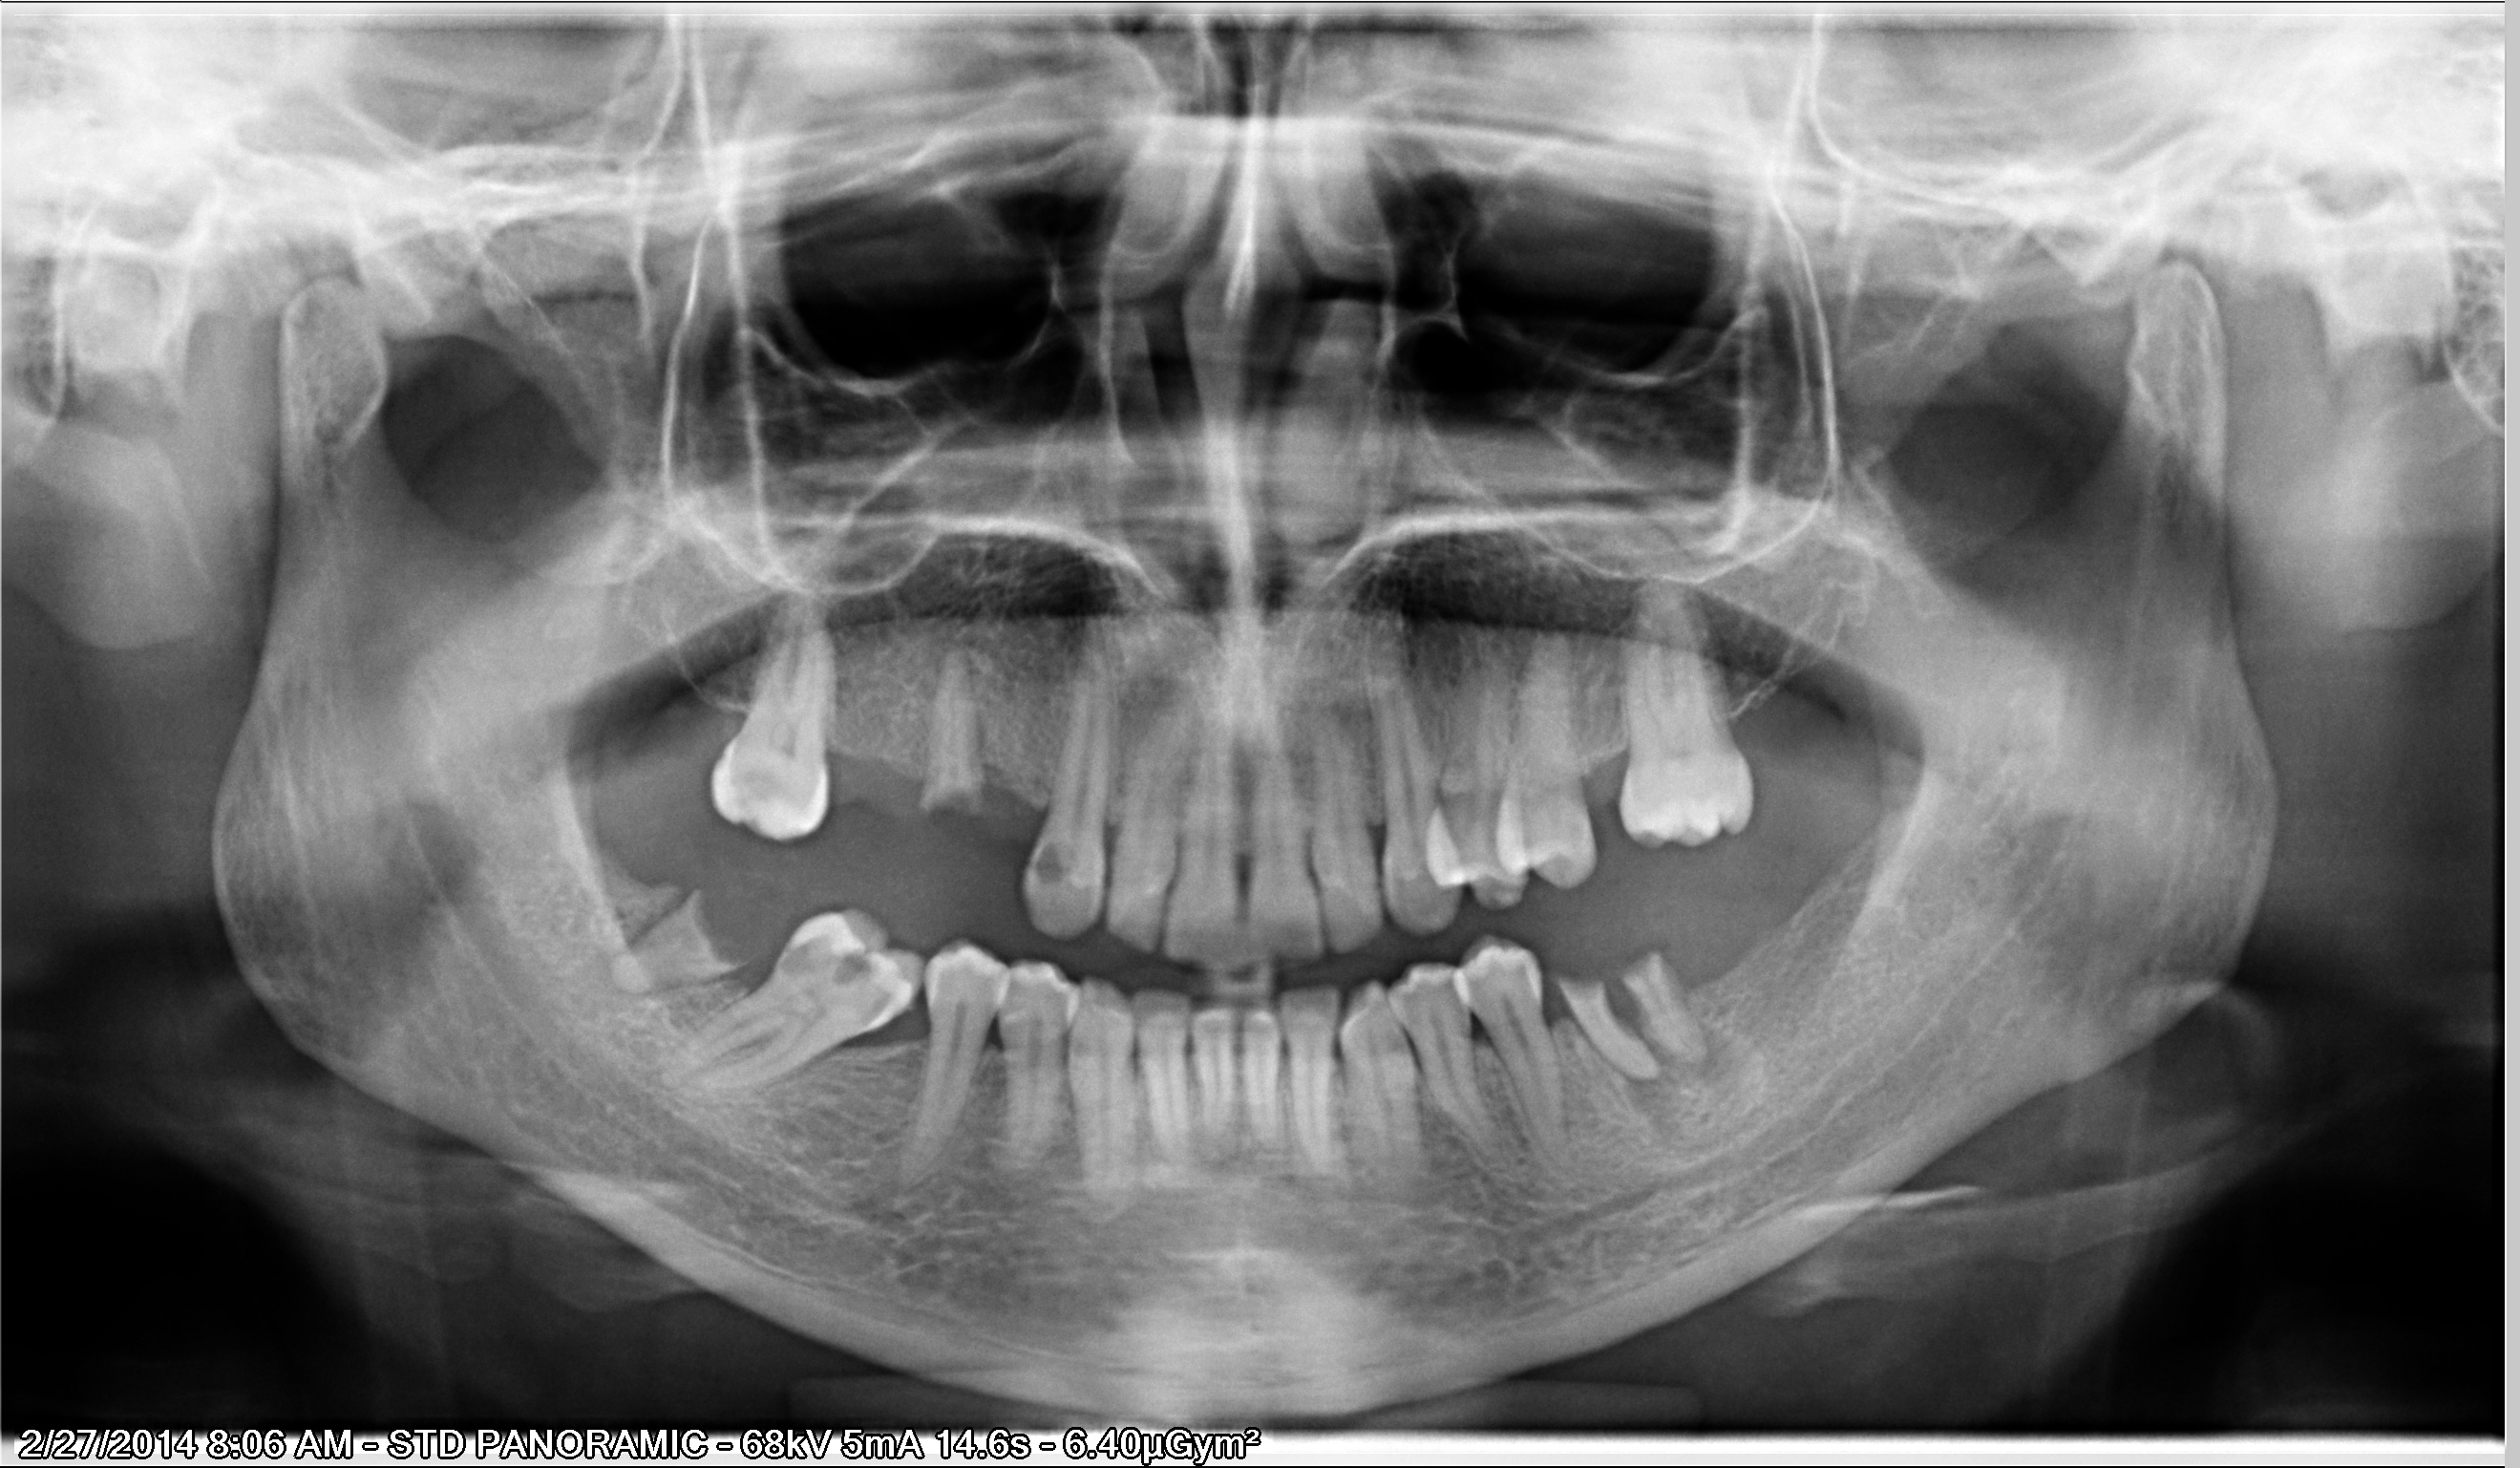API: (540, 938, 664, 1028), (1661, 1014, 1757, 1108), (1605, 1045, 1692, 1141)
CAR: (1009, 809, 1083, 914), (763, 905, 838, 989), (823, 931, 898, 994)
ROT: (597, 863, 740, 1017), (898, 624, 992, 827), (1537, 961, 1664, 1091), (1607, 931, 1710, 1087)
